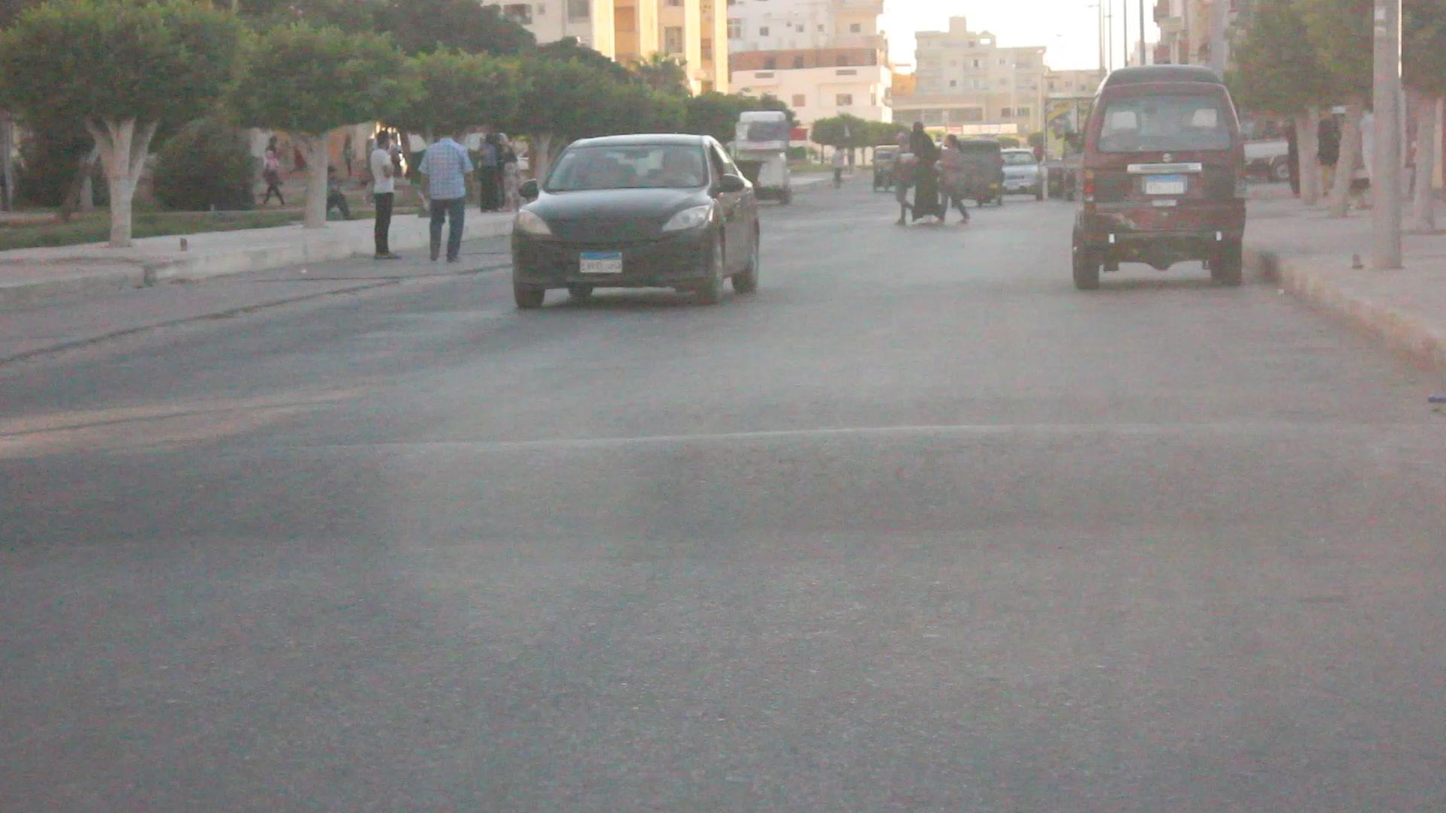Bump: (15, 414, 1446, 514)
